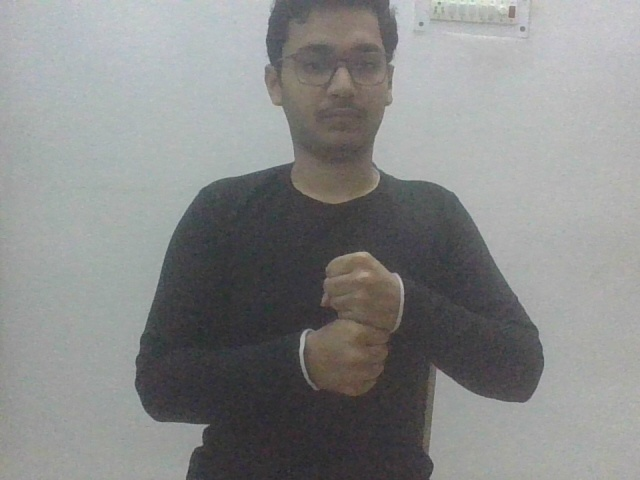G: (299, 247, 407, 403)
